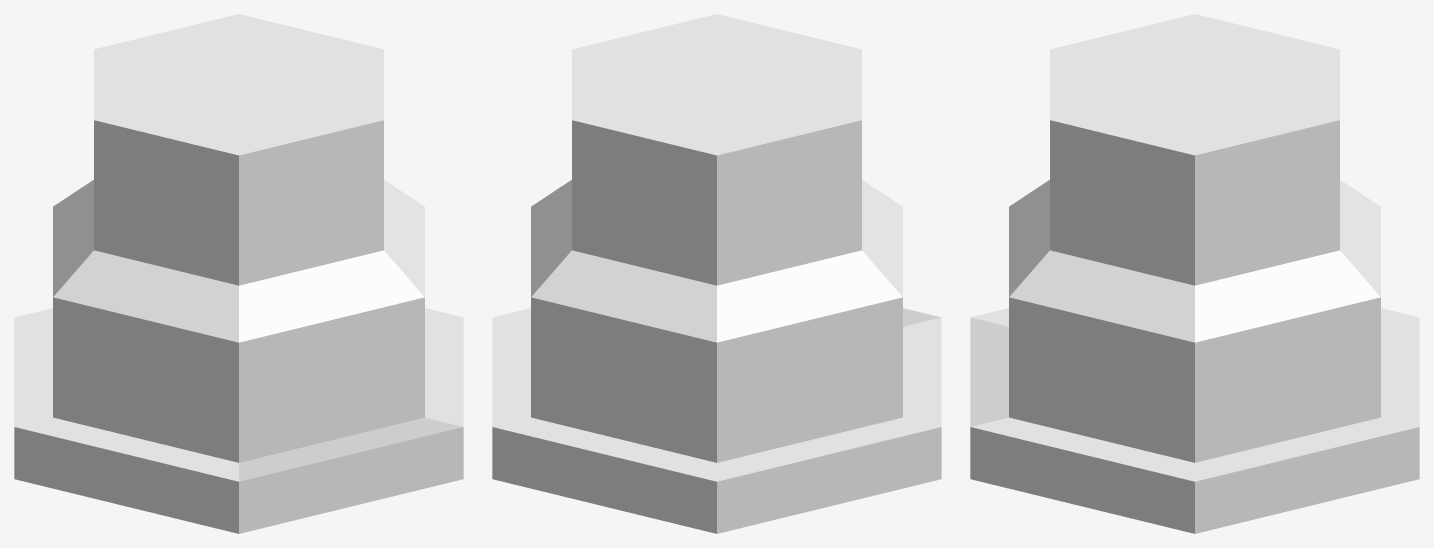
The model's file is Socket1.fbx.
3 renders of one model, left to right at view 1: azimuth 30°, elevation 25°; view 2: azimuth 150°, elevation 25°; view 3: azimuth 270°, elevation 25°, orthographic.
Visible parts, largest first — view 1: Cylinder; view 2: Cylinder; view 3: Cylinder.
Part boxes in pixels (<box>): Cylinder: <box>14,14,463,533</box>; Cylinder: <box>492,14,941,533</box>; Cylinder: <box>970,14,1419,533</box>.
Size of the model in its own units: 90 by 65.05 by 77.94.
